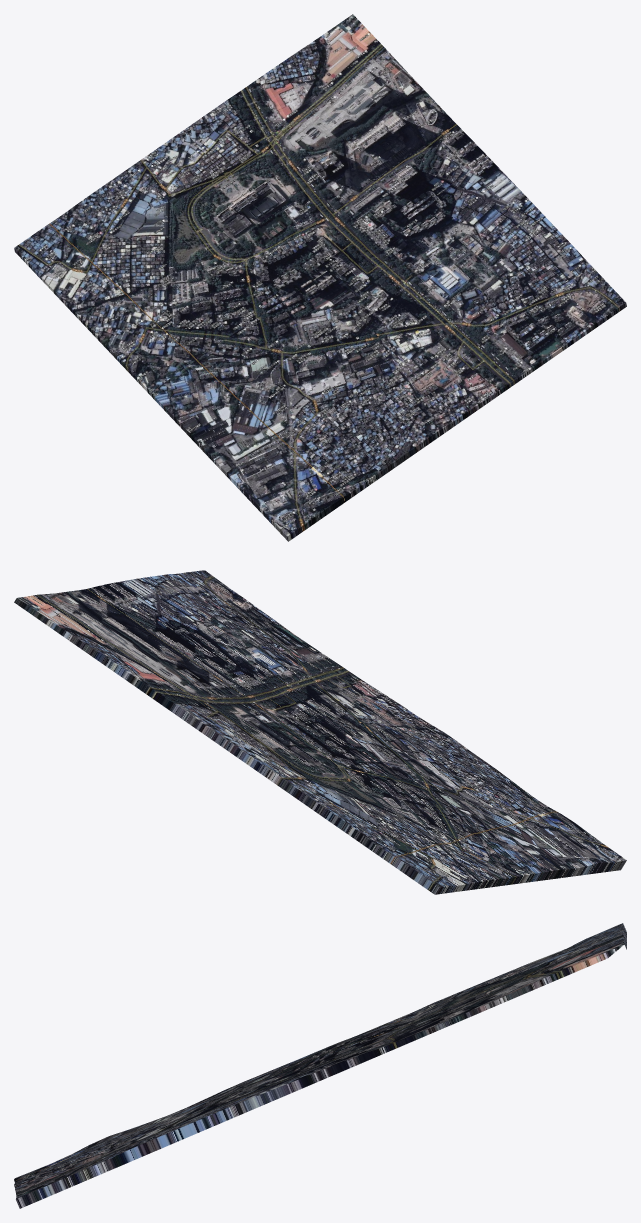
3 renders of one model, top to bottom at view 1: azimuth 30°, elevation 25°; view 2: azimuth 150°, elevation 25°; view 3: azimuth 270°, elevation 25°, orthographic. The views are drawn at different scales.
Visible parts, largest first — view 1: 1_8_10; view 2: 1_8_10; view 3: 1_8_10.
Boxes of the visible parts, x1,y1,x2,y2 form: 1_8_10: (14,14,626,541); 1_8_10: (14,570,626,894); 1_8_10: (14,923,626,1208).
Size of the model in its own units: 1229 by 893 by 1130.
Materials: 1 (1 with a texture image).
